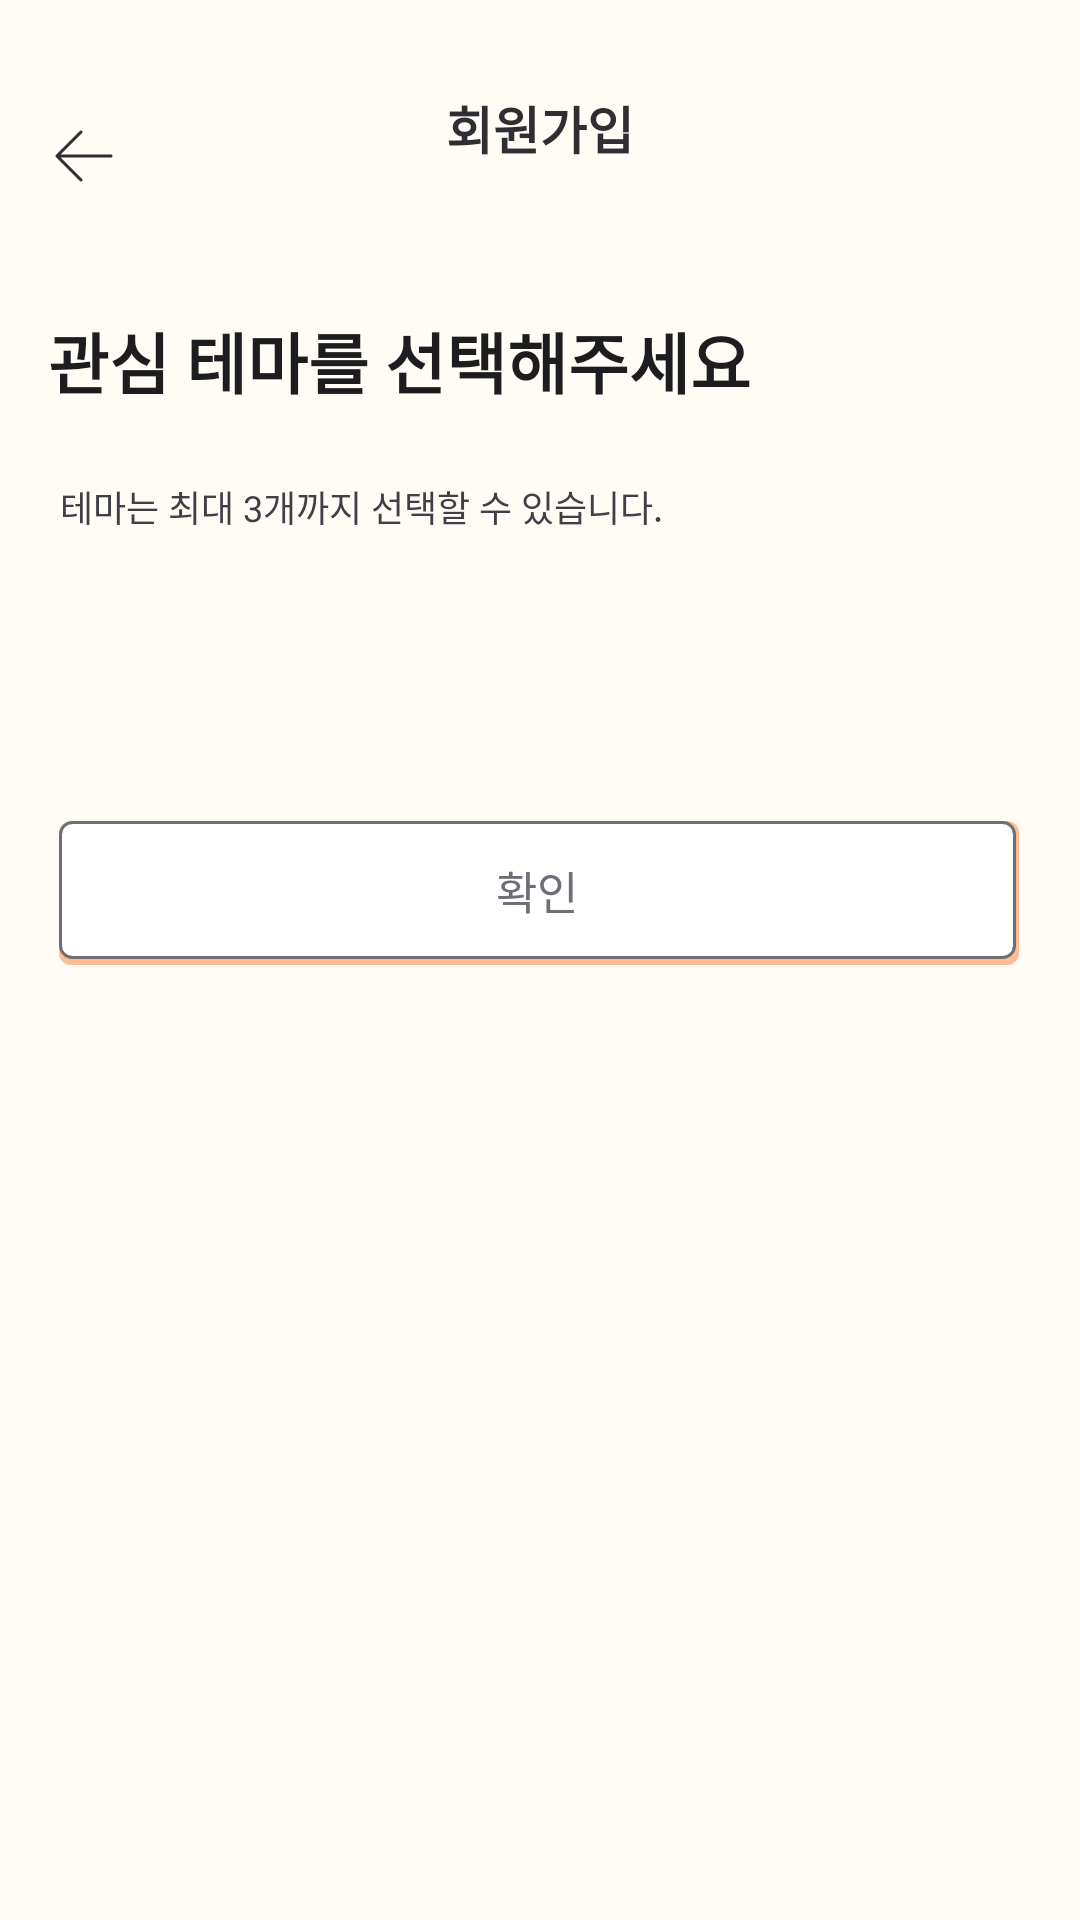

Icons on this 1080×1920 Android screen, each with the point to tap as point (x, y):
back: point (84, 156)
